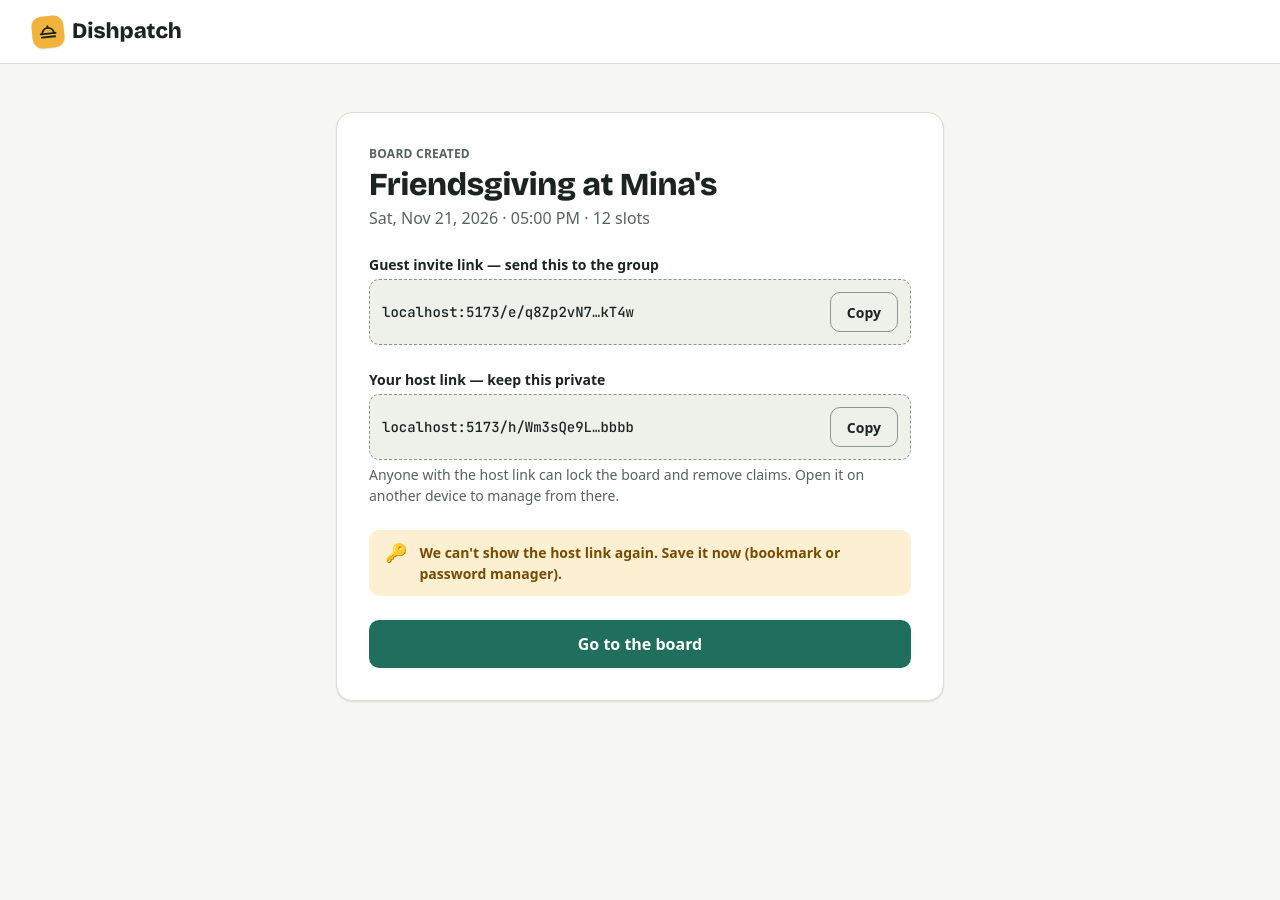
it: ShareScreen › warns before unload until the host link is copied, and never stores it
Step 1. Click the button with aria-label "Copy host link" → (864,427), box [830,407,898,447]
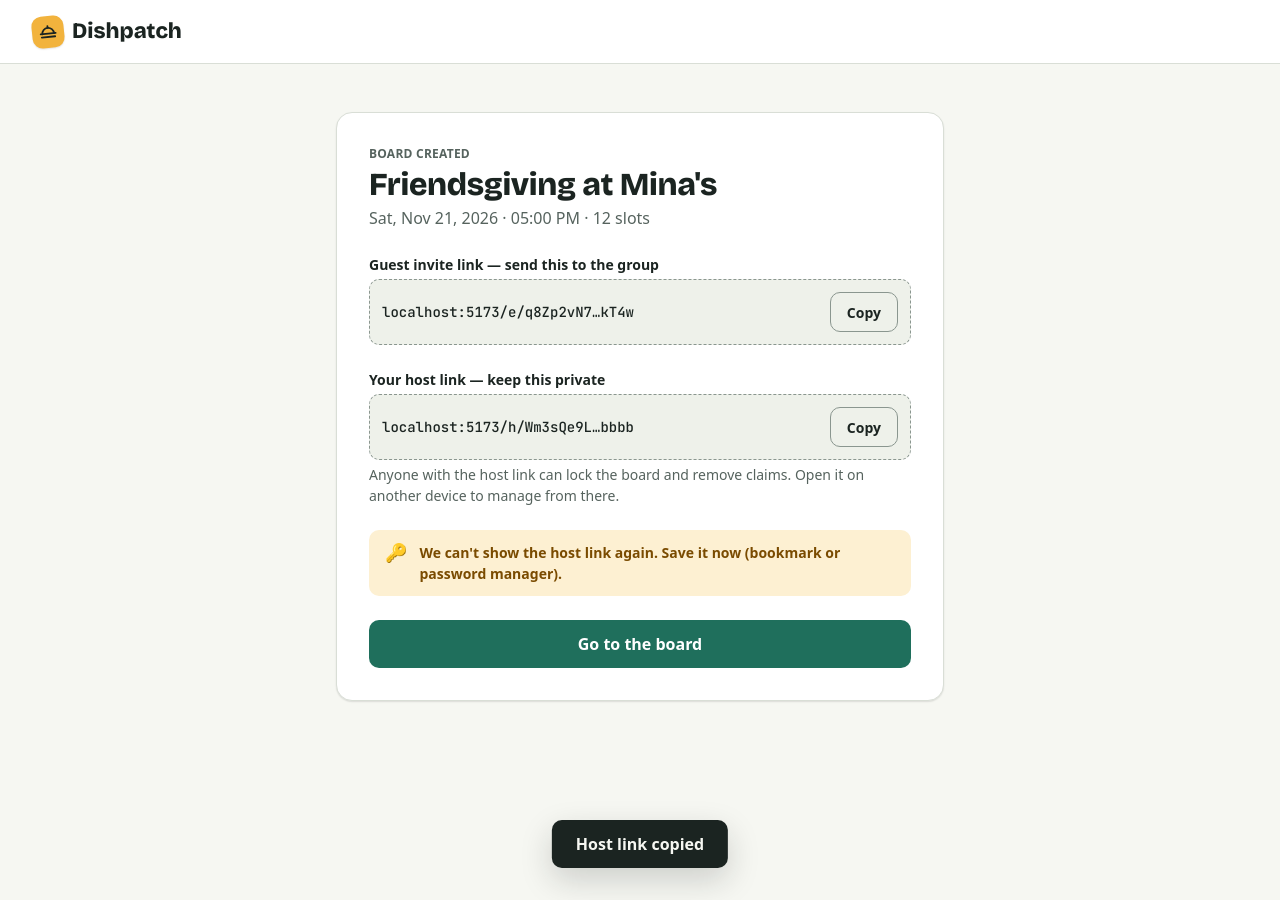
Expected: the message reads "Host link copied", [576,833,704,855]
